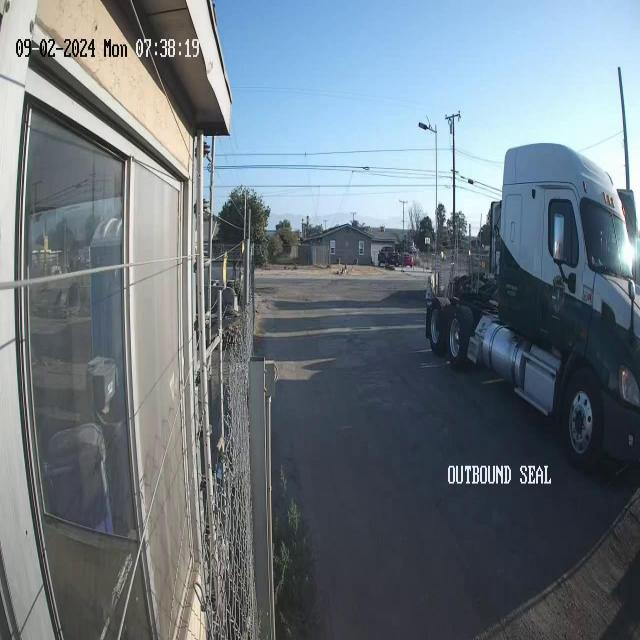TRUCK_IN: (424, 140, 640, 472)
